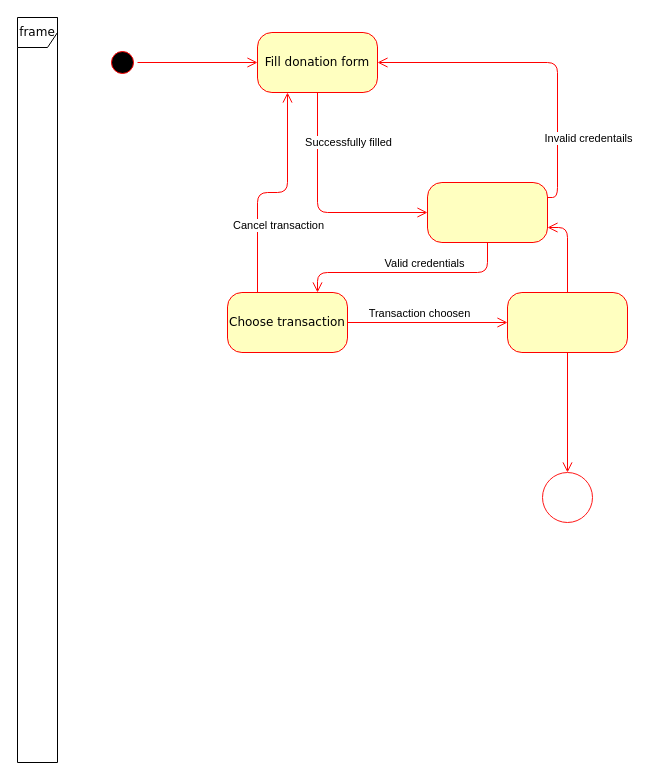
This 649x780 diagram has some shape labels left out. Each missing label, with the box of its shape:
Check credentials: (426, 182, 548, 242)
Perform transaction: (506, 292, 628, 352)
